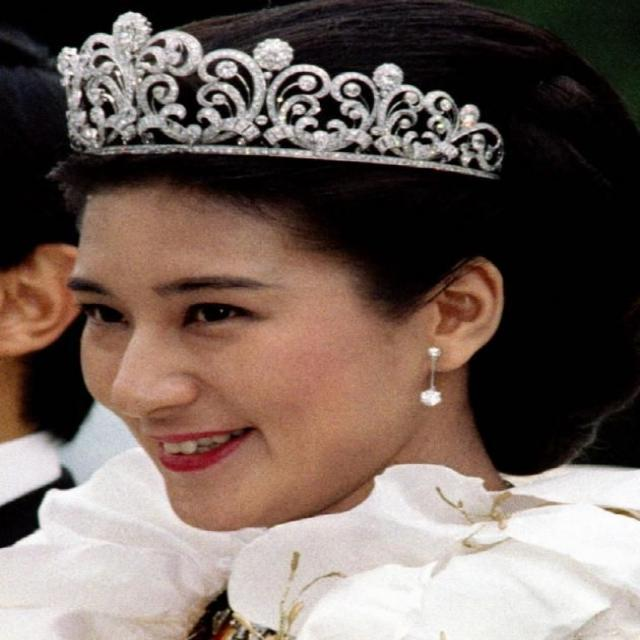Earring: (408, 328, 461, 416), (638, 328, 640, 329)
